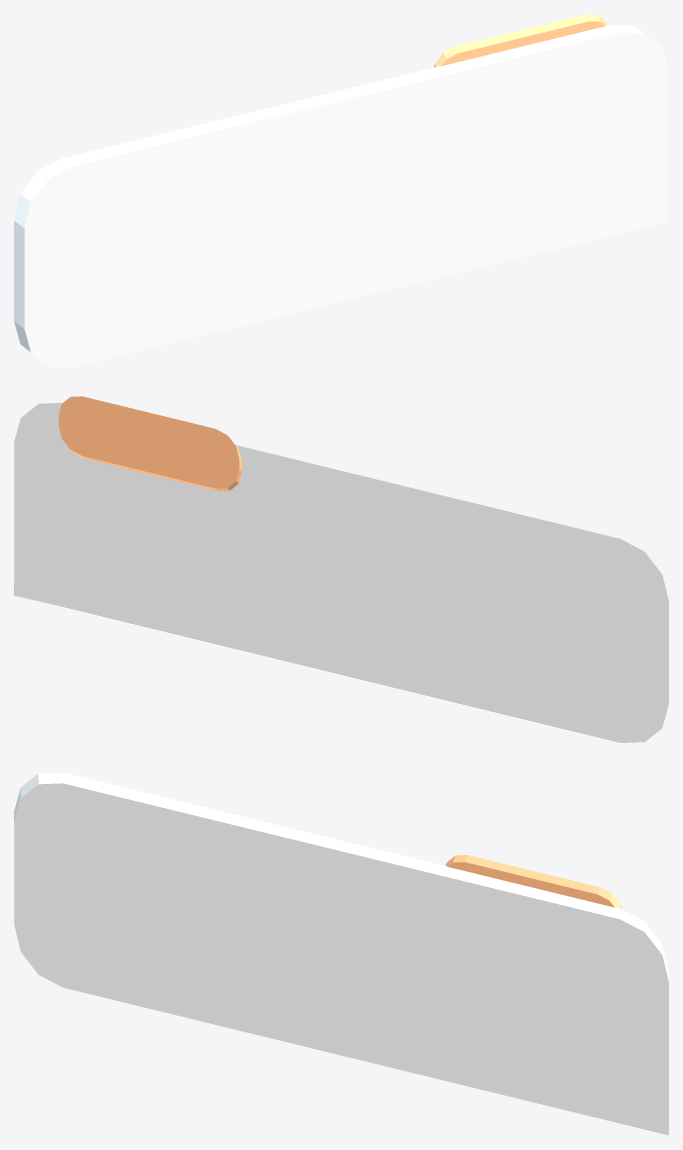
Rendered from s0_sidebubble_01.glb.
The picture shows the model from 3 angles, top to bottom: view 1: azimuth 30°, elevation 25°; view 2: azimuth 150°, elevation 25°; view 3: azimuth 330°, elevation 25°; orthographic projection.
Parts seen in each view (by area): view 1: node_sidebubble; view 2: node_sidebubble; view 3: node_sidebubble.
Boxes of the visible parts, x1,y1,x2,y2 form: node_sidebubble: (14, 14, 668, 367); node_sidebubble: (14, 396, 668, 743); node_sidebubble: (14, 772, 668, 1135).
Size of the model in its own units: 3.62 by 1.17 by 0.0743.
